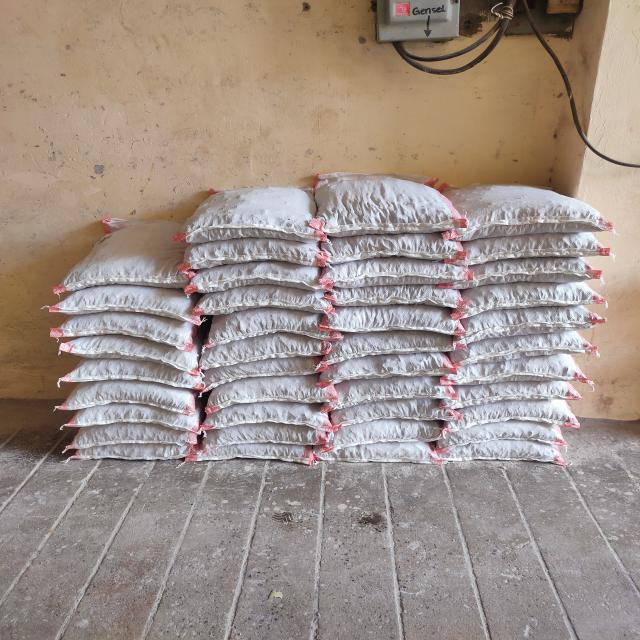Gravel: (48, 223, 194, 285), (316, 175, 456, 228), (181, 198, 314, 238), (458, 187, 591, 227), (320, 235, 462, 263), (465, 234, 606, 262), (322, 262, 465, 288), (186, 240, 320, 266), (191, 264, 325, 290), (468, 256, 602, 282), (467, 284, 601, 310), (329, 286, 463, 312), (198, 288, 332, 314), (55, 291, 189, 317), (55, 314, 189, 340), (65, 337, 199, 363), (65, 354, 199, 380), (63, 380, 197, 406), (68, 400, 202, 426), (68, 419, 202, 445), (200, 311, 317, 340), (335, 308, 462, 334), (469, 312, 596, 338), (451, 357, 591, 379), (446, 384, 585, 406), (447, 402, 586, 424), (63, 440, 196, 462), (456, 340, 591, 361), (332, 333, 447, 354), (440, 423, 560, 442), (449, 445, 569, 464), (333, 443, 446, 462), (330, 423, 443, 442), (335, 401, 448, 420), (333, 378, 446, 397), (330, 355, 443, 374), (203, 442, 316, 461), (205, 423, 318, 442), (211, 403, 324, 422), (208, 380, 321, 399), (207, 359, 320, 378), (205, 340, 318, 359)
